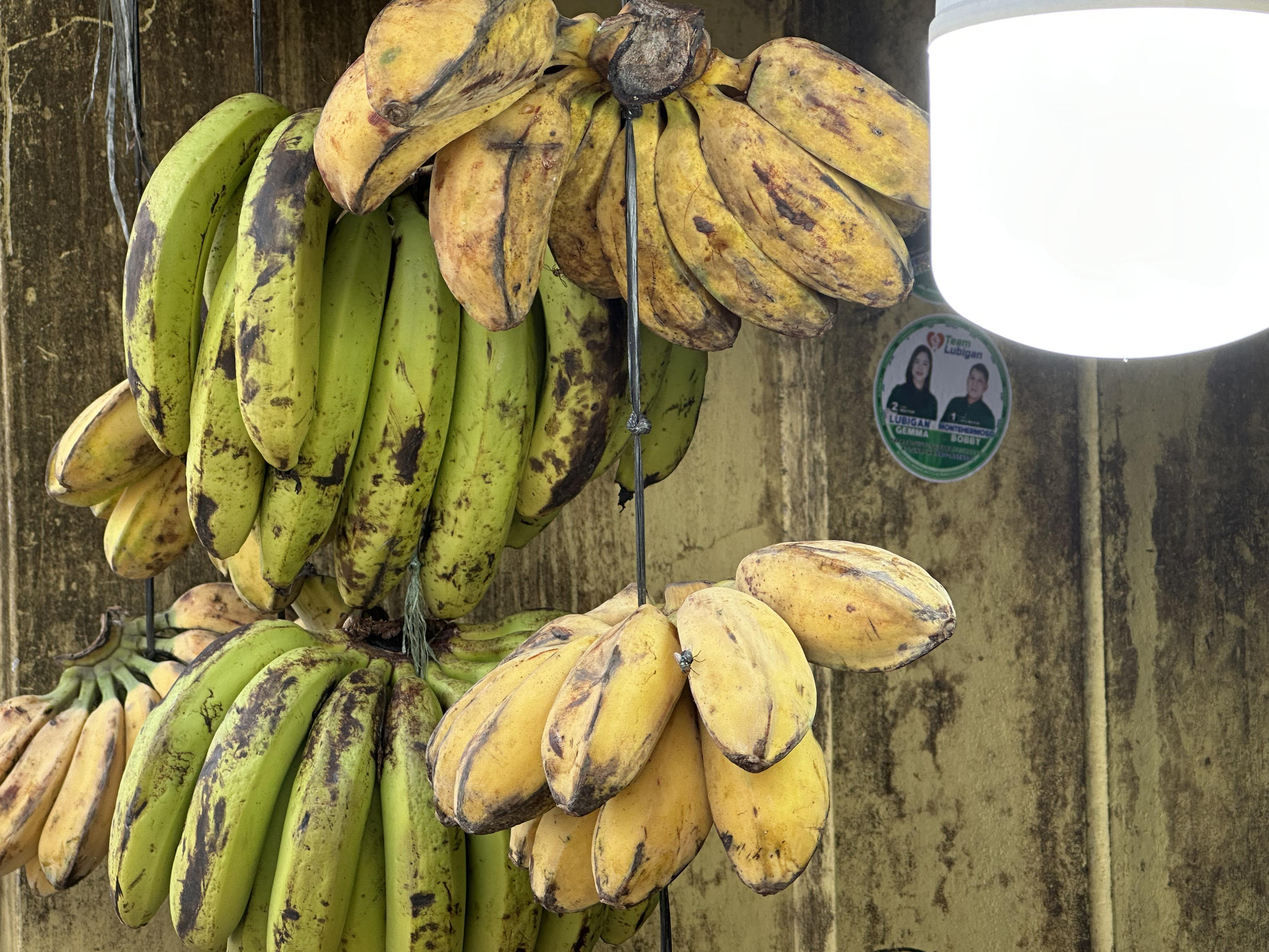ripe: (316, 0, 929, 350), (426, 541, 955, 911), (0, 583, 262, 895), (49, 378, 194, 581)
